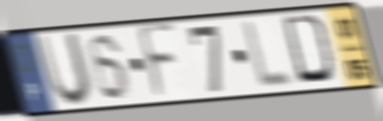6: (86, 32, 134, 101)
7: (184, 24, 226, 96)
D: (279, 12, 339, 87)
F: (135, 20, 179, 105)
L: (241, 18, 296, 92)
U: (35, 30, 96, 110)
